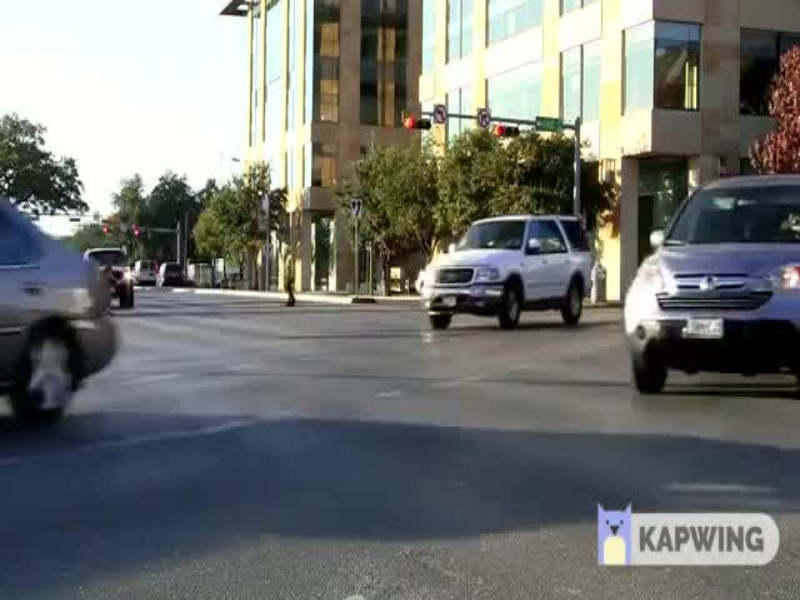car: (608, 175, 800, 414), (406, 210, 602, 339)
